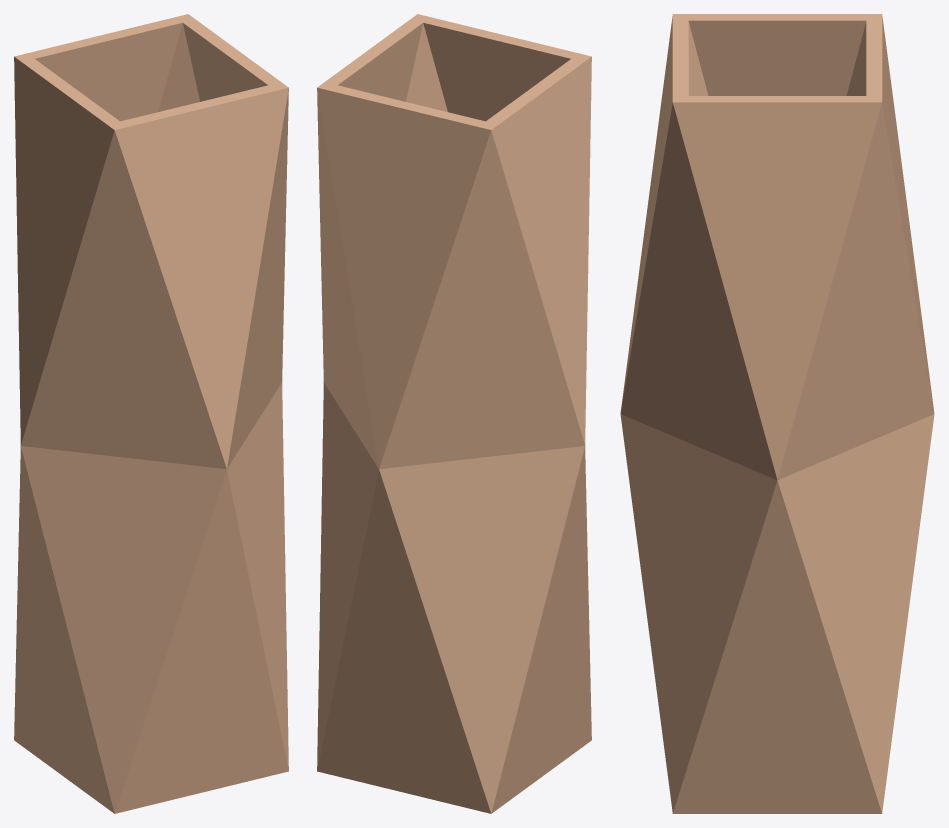
File: Vase6.fbx
3 renders of one model, left to right at view 1: azimuth 30°, elevation 25°; view 2: azimuth 150°, elevation 25°; view 3: azimuth 270°, elevation 25°, orthographic. The views are drawn at different scales.
Parts seen in each view (by area): view 1: Cube; view 2: Cube; view 3: Cube.
Boxes of the visible parts, x1=… form: Cube: x1=14, y1=14, x2=288, y2=813; Cube: x1=317, y1=14, x2=591, y2=813; Cube: x1=620, y1=14, x2=934, y2=813.
Bounding box in the file's own units: 0.36 × 0.9 × 0.36.
